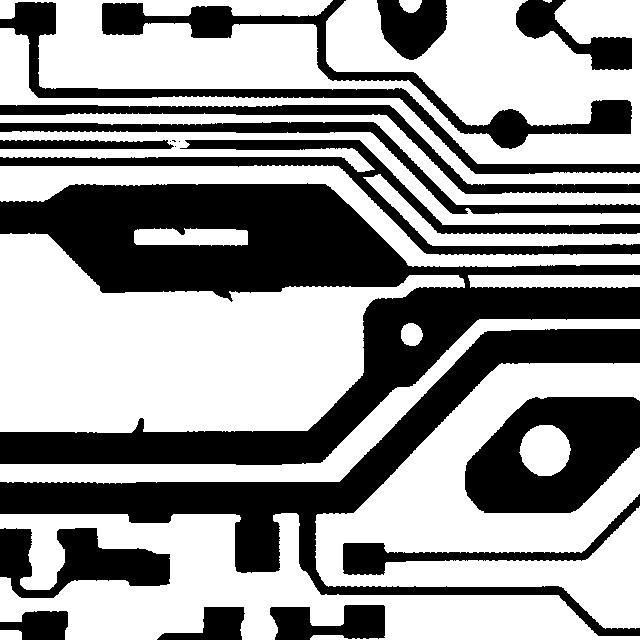mousebite: (455, 198, 482, 224)
open: (157, 129, 199, 159)
short: (345, 160, 388, 186), (449, 263, 479, 299)
spur: (203, 278, 242, 311), (122, 408, 153, 446), (164, 215, 194, 244)
